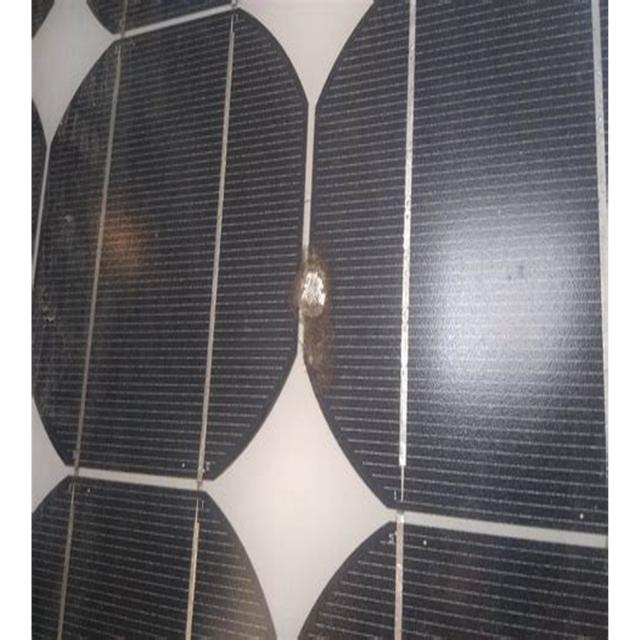bird drop: (33, 10, 609, 633)
